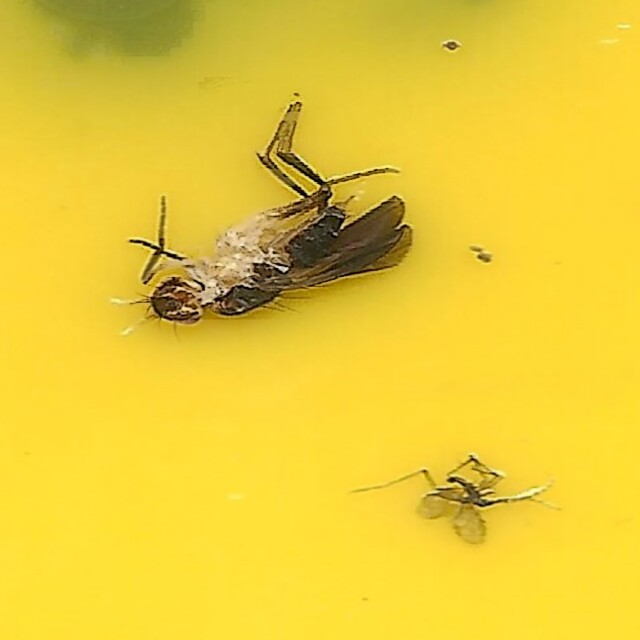Brachycera: (129, 99, 413, 329)
Nematocera: (419, 456, 511, 541)
